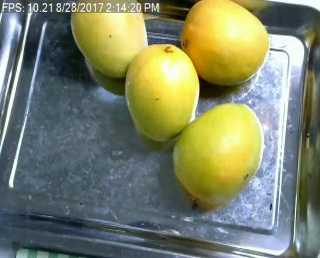Mango: (174, 103, 263, 202), (180, 0, 270, 82), (123, 43, 196, 137), (67, 1, 149, 76)
